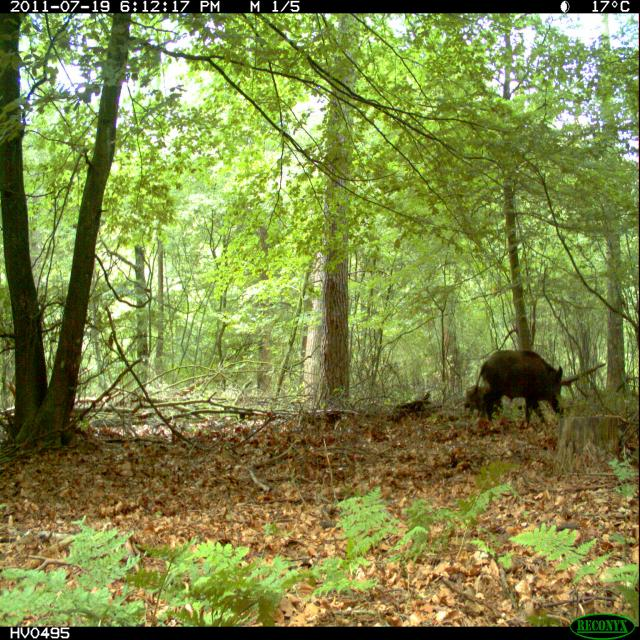boar: (462, 331, 578, 450)
